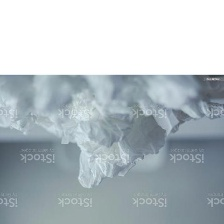tissue: (0, 75, 224, 194)
